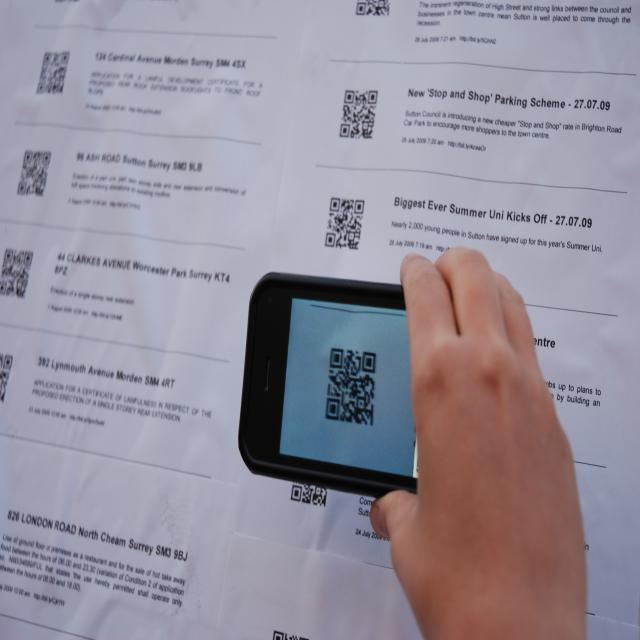qrcode: (326, 349, 377, 427), (326, 199, 366, 251), (340, 91, 379, 140), (1, 250, 35, 300), (18, 151, 53, 198), (37, 53, 71, 95), (291, 482, 329, 508), (1, 354, 14, 404), (357, 1, 392, 17), (273, 631, 311, 640)
